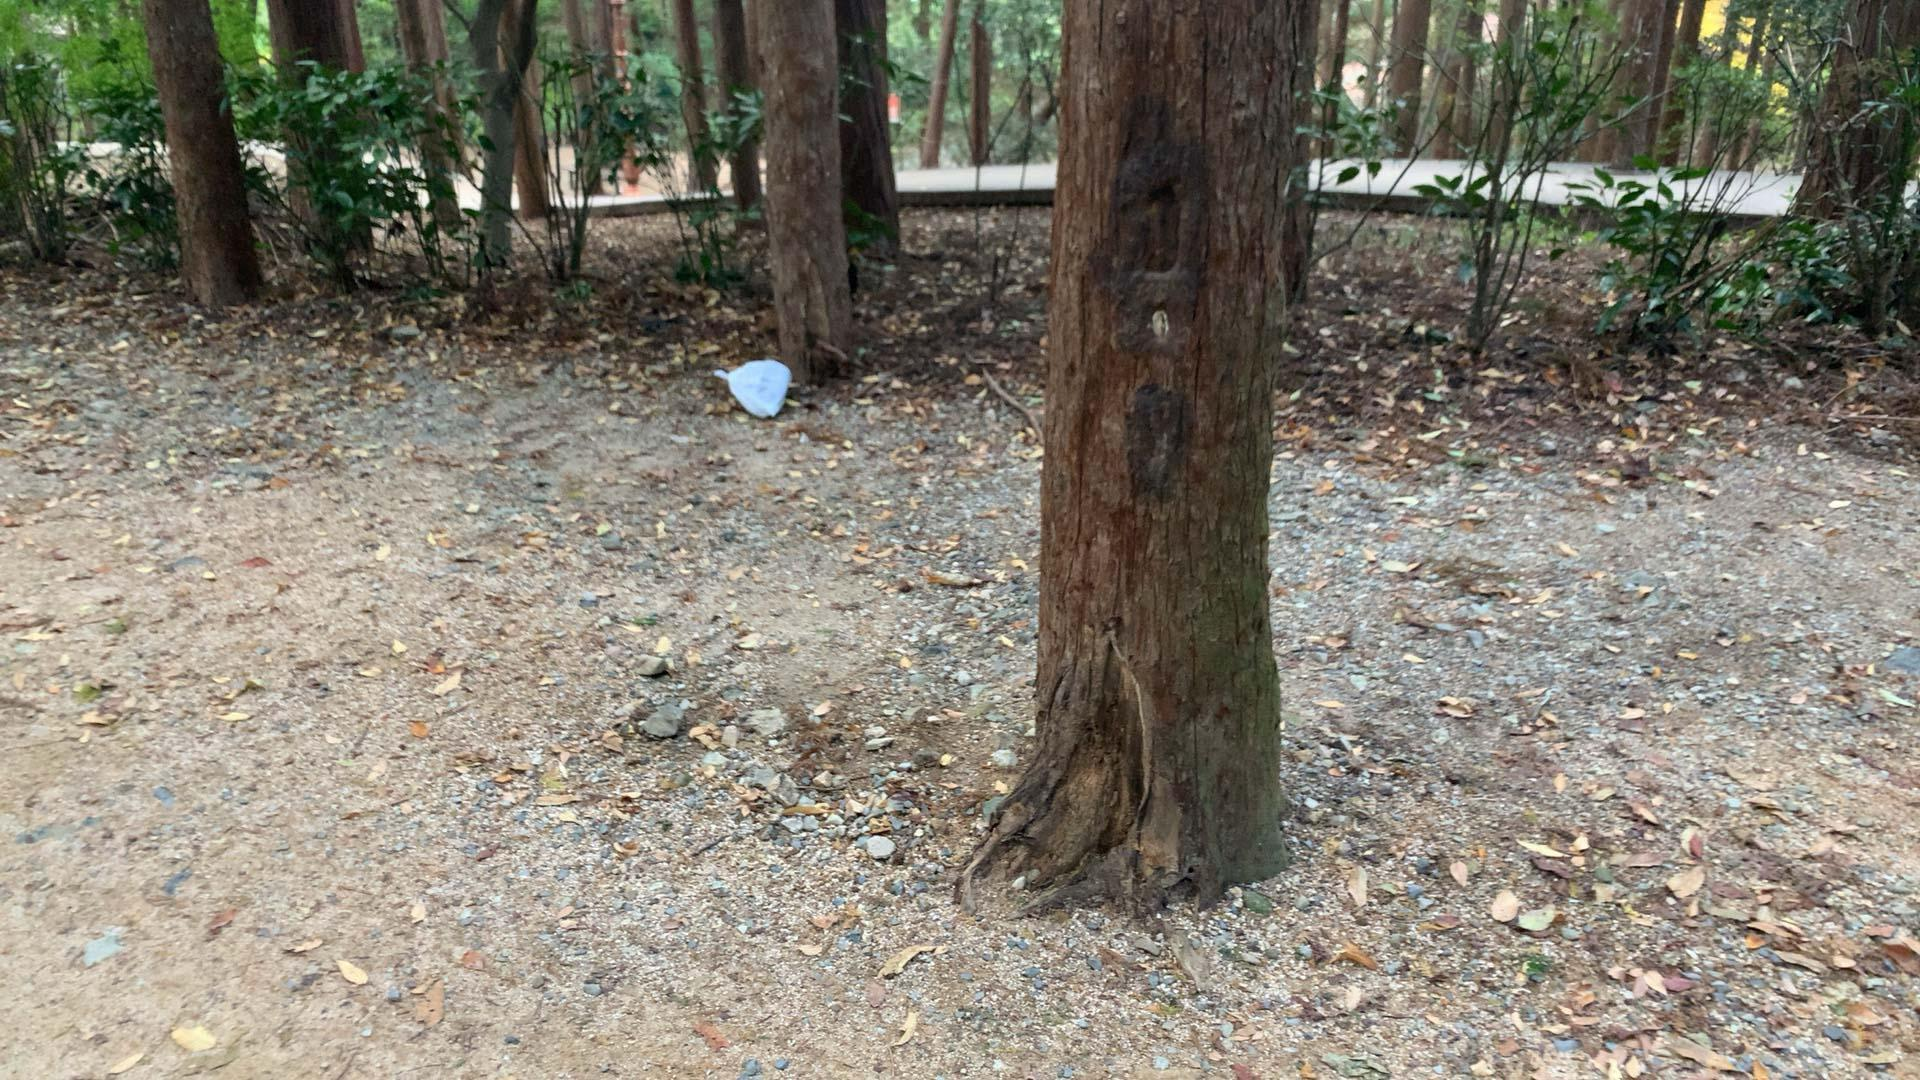white_bag: (705, 348, 800, 426)
